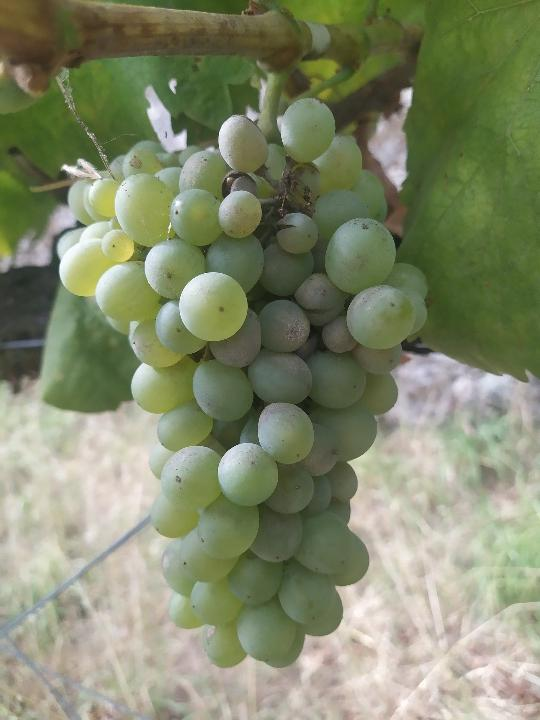grape: (56, 90, 433, 669)
